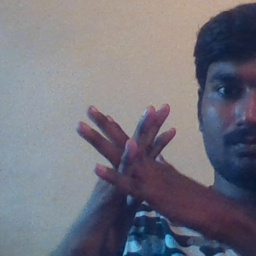W: (68, 92, 189, 224)
